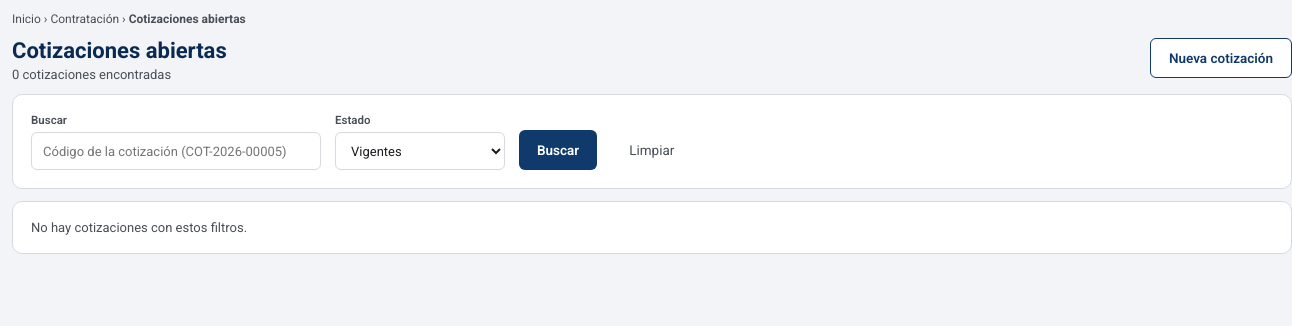
Test: CotizacionesAbiertasComponent ("Cotizaciones abiertas", patrón J01) › sin resultados lo dice; con un error del servicio muestra el mensaje
Click the submit button. click: (558, 150)
box: 519,130 -> 597,170
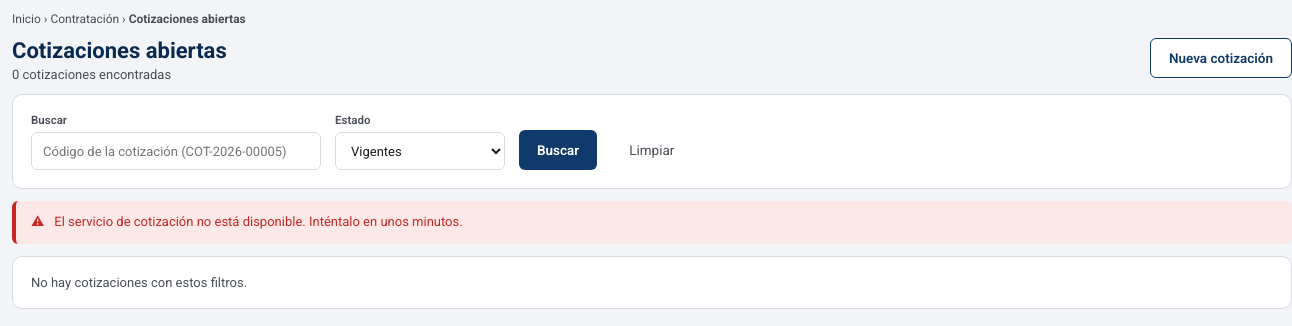
Expected: the message with class "alerta" shows "El servicio de cotización no está disponible", 54,214 -> 463,229
